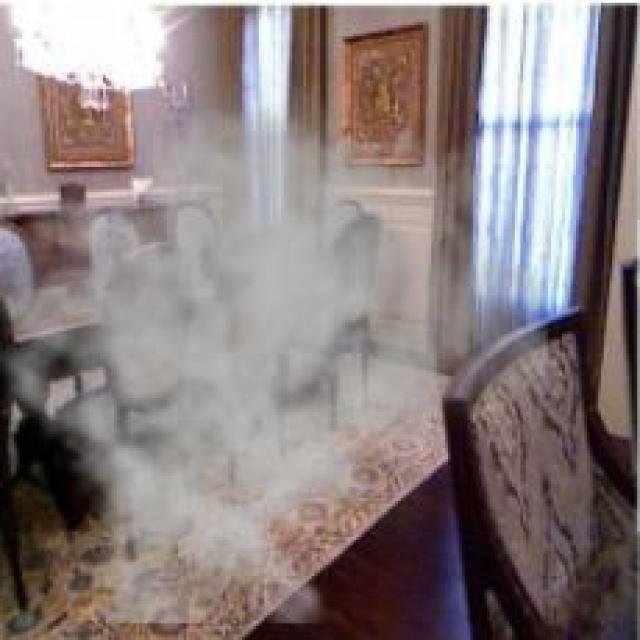fire: (0, 52, 551, 624)
